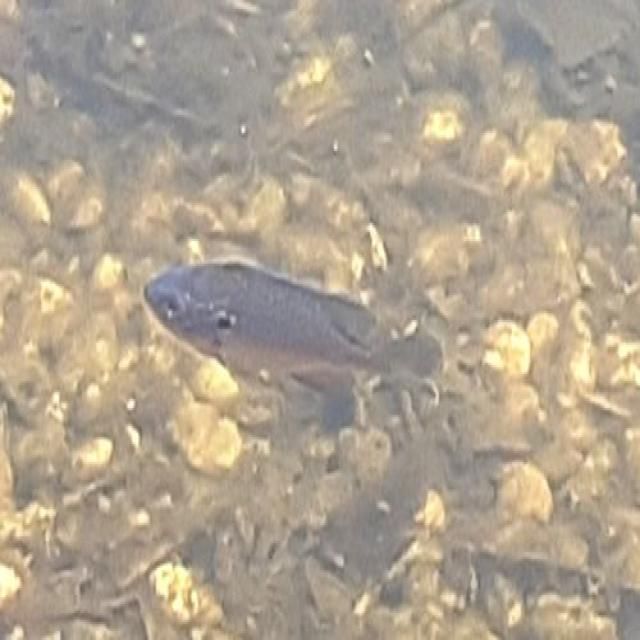Gunes Levregi: (139, 264, 450, 400)
